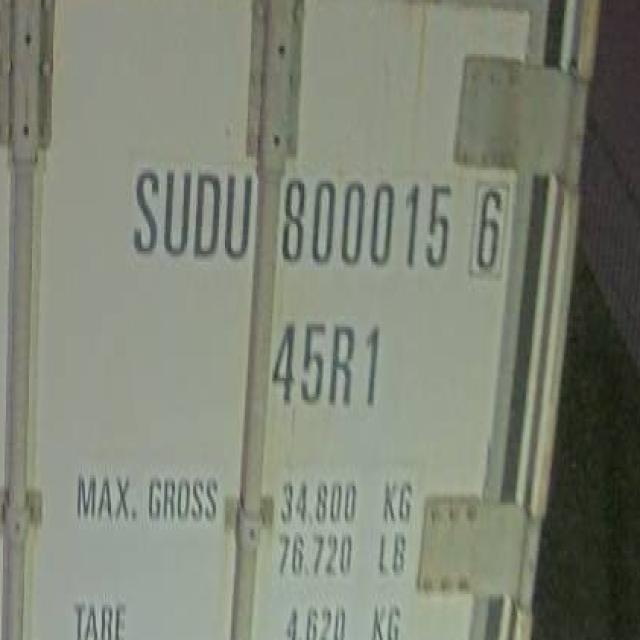dv: (467, 171, 514, 284)
owner: (129, 158, 255, 274)
serial: (277, 164, 451, 282)
size: (264, 310, 390, 418)
